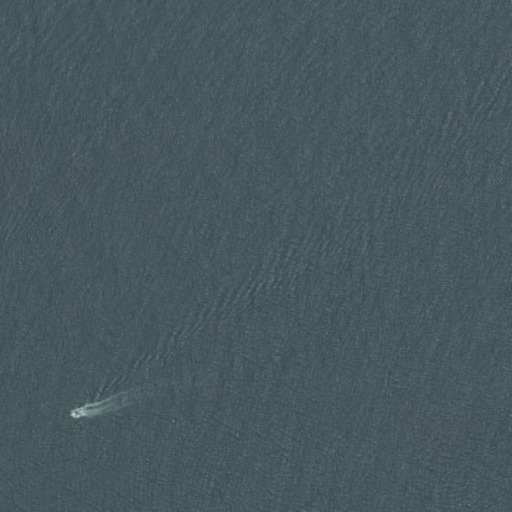ship: (67, 405, 90, 420)
